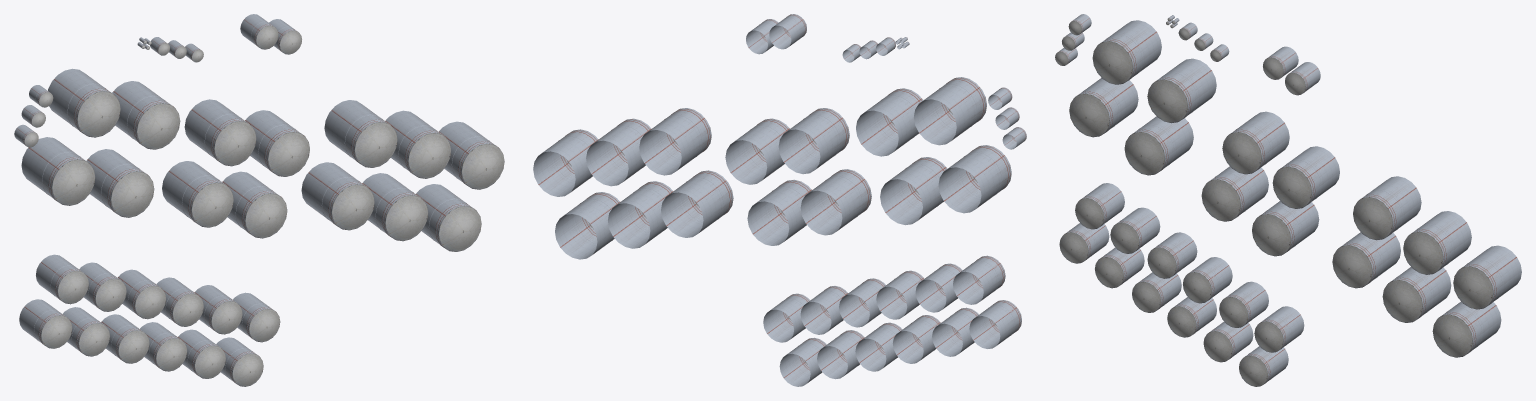
The model's file is p6b_jar_white01.fbx.
3 views of the same model, side by side, from view 1: azimuth 30°, elevation 25°; view 2: azimuth 150°, elevation 25°; view 3: azimuth 330°, elevation 25° (orthographic). The views are drawn at different scales.
Parts seen in each view (by area): view 1: p6b_jar_white01; view 2: p6b_jar_white01; view 3: p6b_jar_white01.
Boxes of the visible parts, x1,y1,x2,y2 form: p6b_jar_white01: (14, 14, 504, 386); p6b_jar_white01: (533, 14, 1026, 386); p6b_jar_white01: (1055, 14, 1521, 386).
Bounding box in the file's own units: 43018 × 31608 × 5504.
